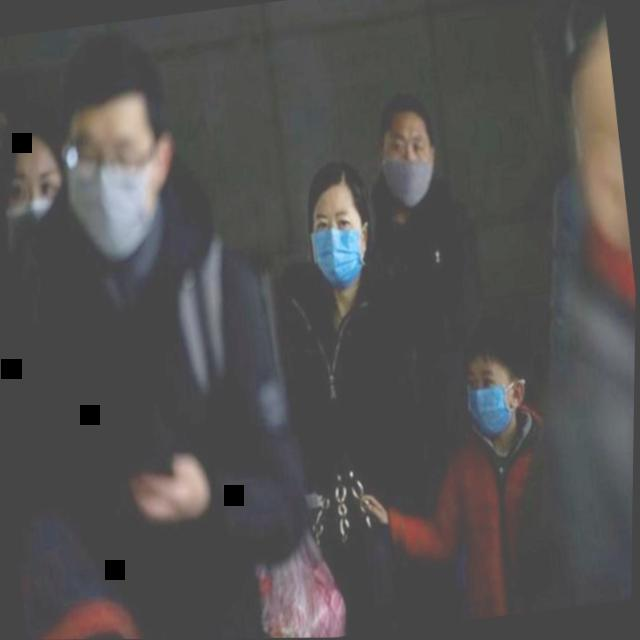Mask: (49, 62, 189, 266), (290, 162, 388, 302), (364, 87, 452, 217), (448, 333, 541, 451)
